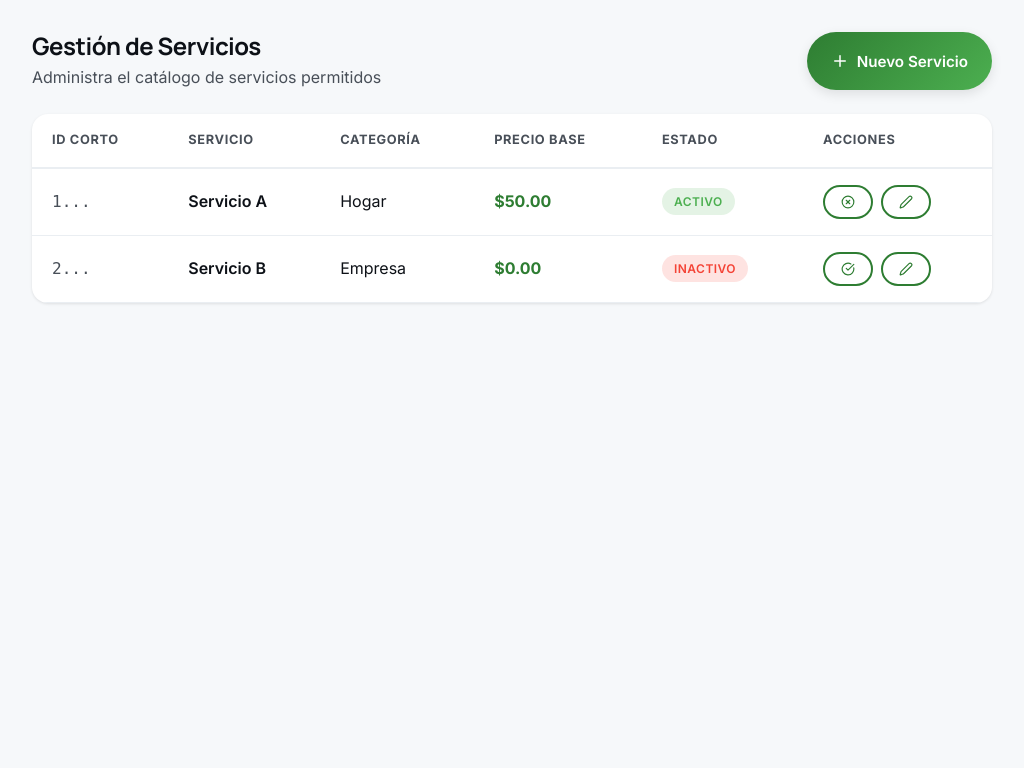
Test: AdminServices Component › debe abrir el modal de edición y mostrar precio y categoría
Step 1. Click the button titled "Editar información" in the row of "Servicio A" → click(906, 202), box [881, 185, 931, 219]
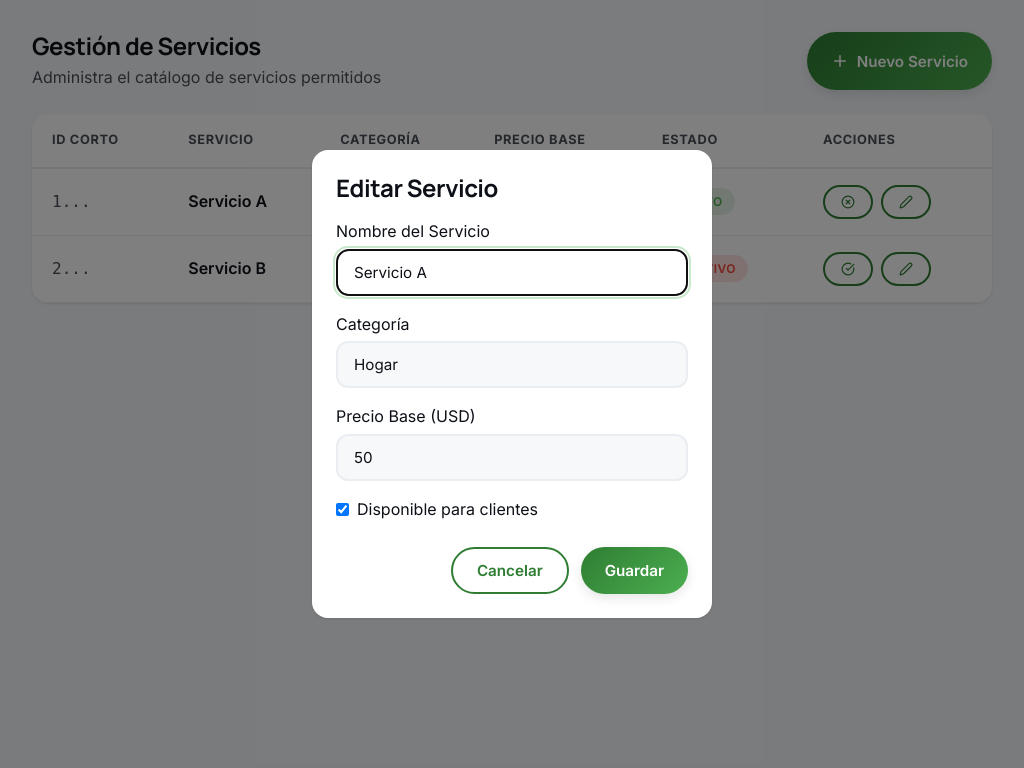
Expected: the heading "Editar Servicio" is shown, [336, 171, 498, 204]
Expected: the field showing "Servicio A" is shown, [336, 249, 688, 296]
Expected: the number field showing "50" is shown, [336, 434, 688, 481]
